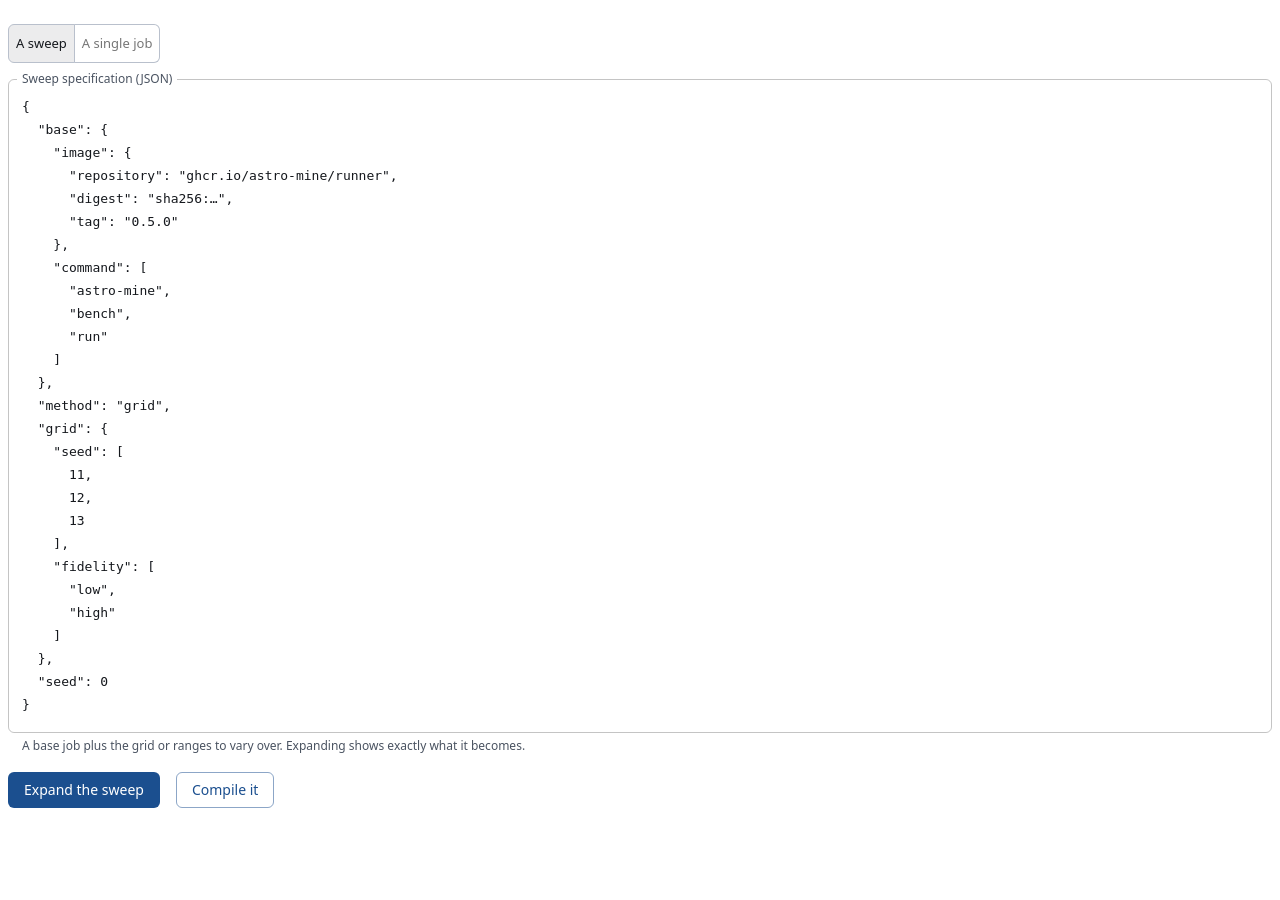
Scenario: expanding a sweep › attributes the count to the API rather than to the page
This screenshot has width=1280, height=900.
Click the button "Expand the sweep" at (84, 790), box [8, 772, 160, 808]
(page scrolled)
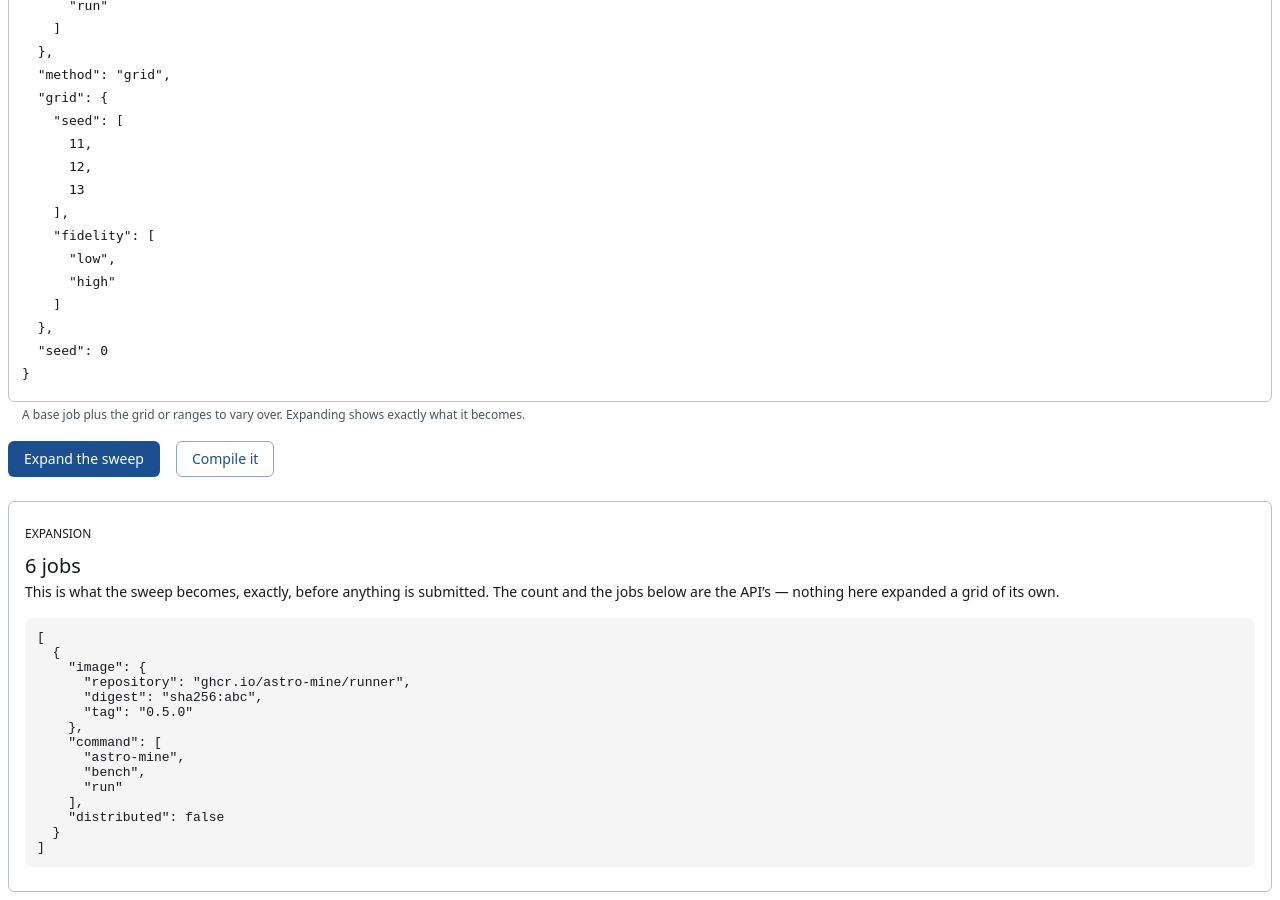
Now the heading "Expansion" is shown, box [25, 525, 91, 542]
Now the text "nothing here expanded a grid of its own" is shown, box [25, 582, 1060, 601]
